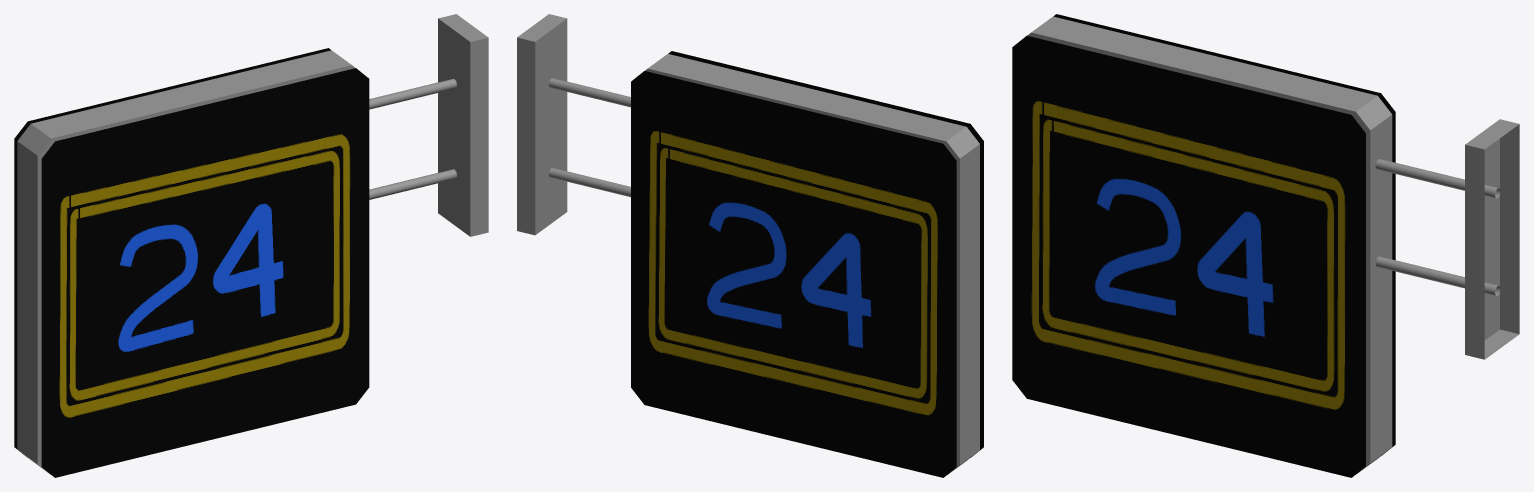
Rendered from neon sign L 2.FBX.
3 views of the same model, side by side, from view 1: azimuth 30°, elevation 25°; view 2: azimuth 150°, elevation 25°; view 3: azimuth 330°, elevation 25° (orthographic). The views are drawn at different scales.
Visible parts, largest first — view 1: Box213; view 2: Box213; view 3: Box213.
Part boxes in pixels (x1,y1,x2,y2): Box213: (14, 14, 488, 477); Box213: (517, 14, 983, 477); Box213: (1012, 14, 1519, 477).
Bounding box in the file's own units: 2.21 × 1.62 × 0.2799.
2 materials, 1 textured.
